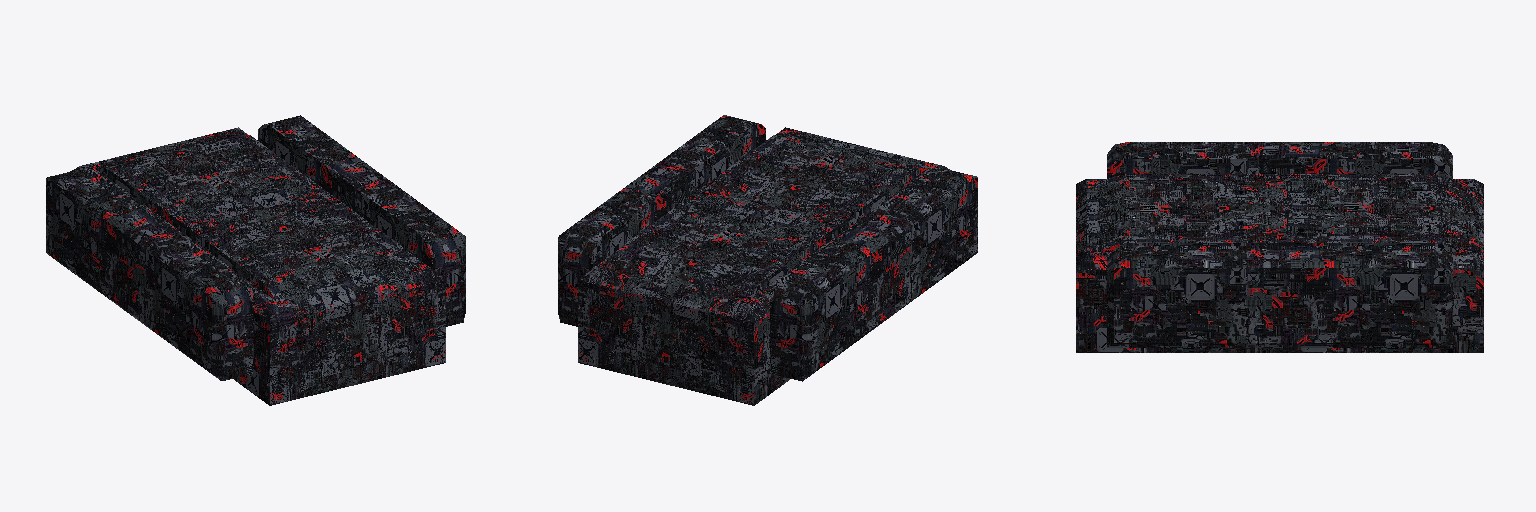
3 renders of one model, left to right at view 1: azimuth 30°, elevation 25°; view 2: azimuth 150°, elevation 25°; view 3: azimuth 270°, elevation 25°, orthographic.
Visible parts, largest first — view 1: baza; view 2: baza; view 3: baza.
Boxes of the visible parts, x1,y1,x2,y2 form: baza: [46, 115, 465, 405]; baza: [558, 115, 977, 405]; baza: [1076, 142, 1483, 352].
Bounding box in the file's own units: 1.44 × 0.5826 × 2.
Materials: 1 (1 with a texture image).